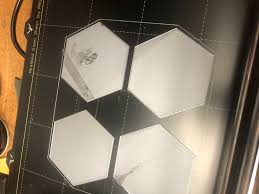fail: (60, 34, 104, 105), (113, 159, 146, 185)
